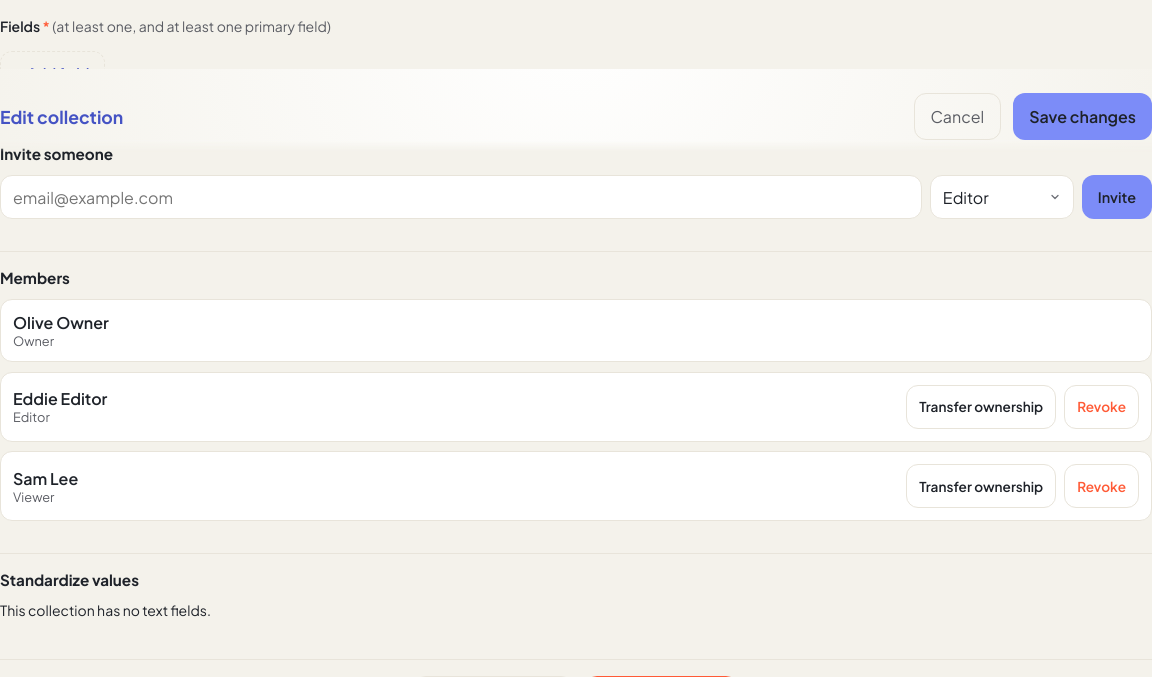
Test: Admin ownership transfer › shows an error when the transfer fails
(page scrolled)
What coordinates should you click on to do the following:
click the button "Transfer ownership" in the row of "Eddie Editor"
I would click on:
 (981, 407)
Its box is top-left (906, 385), bottom-right (1056, 429).
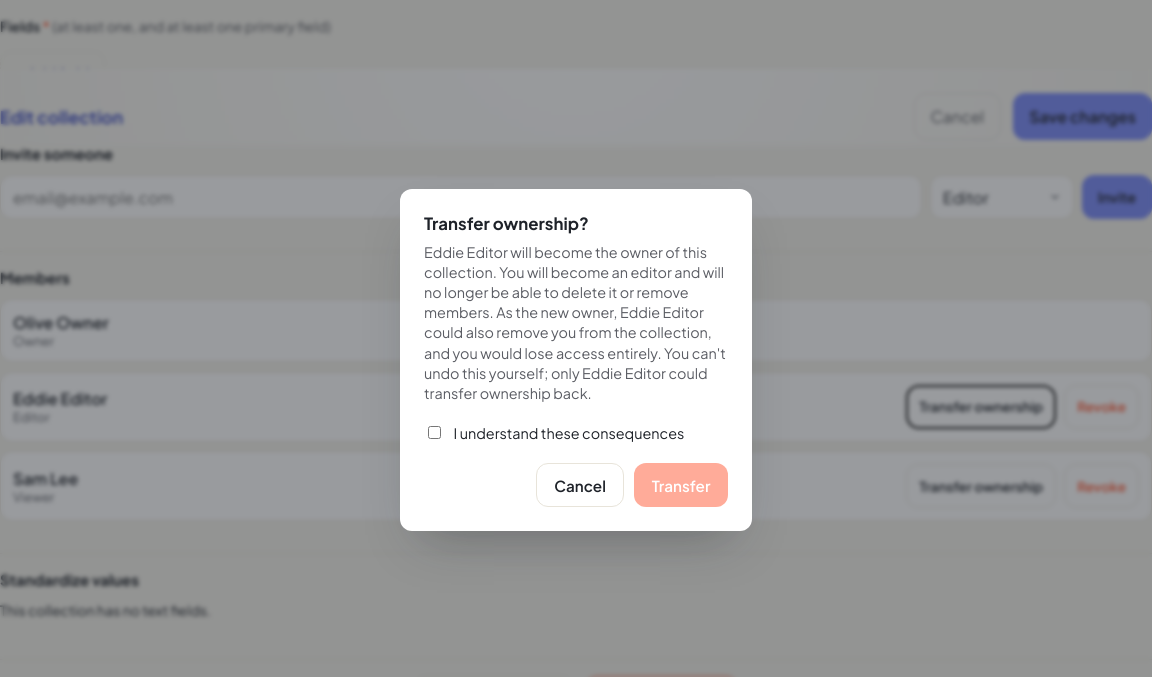
What coordinates should you click on to do the following:
click the checkbox labelled "I understand these consequences"
I would click on:
 (434, 433)
Its box is top-left (428, 426), bottom-right (441, 439).
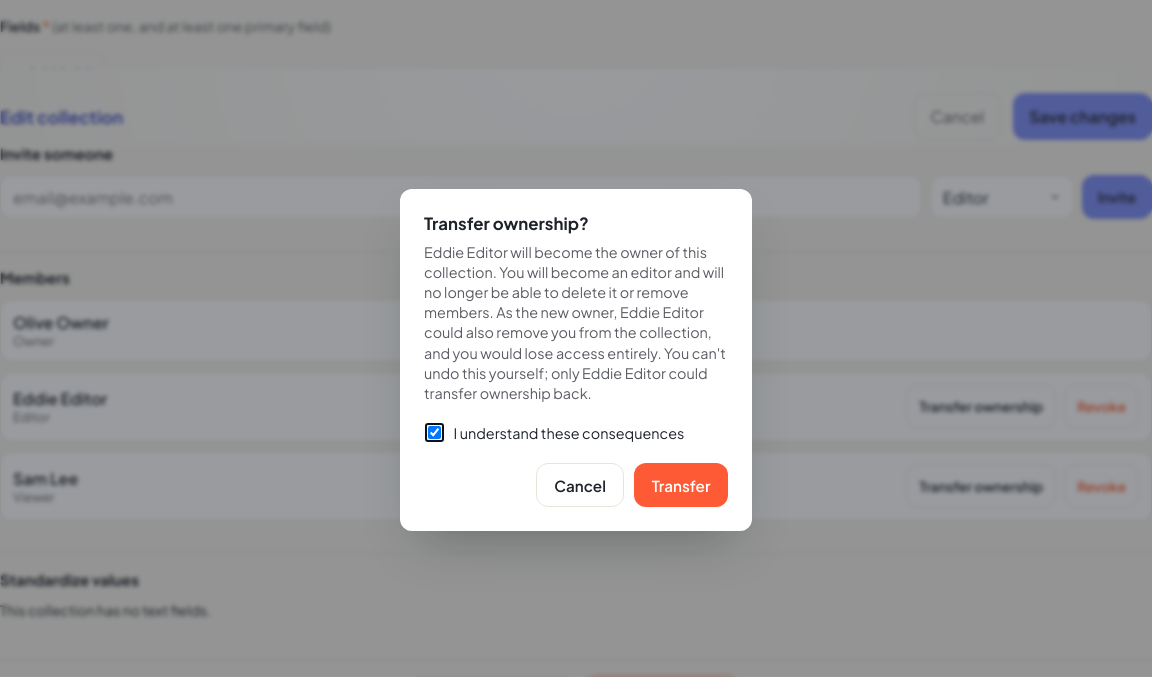
What coordinates should you click on to do the following:
click the button "Transfer"
I would click on:
 (681, 485)
Its box is top-left (634, 463), bottom-right (728, 507).
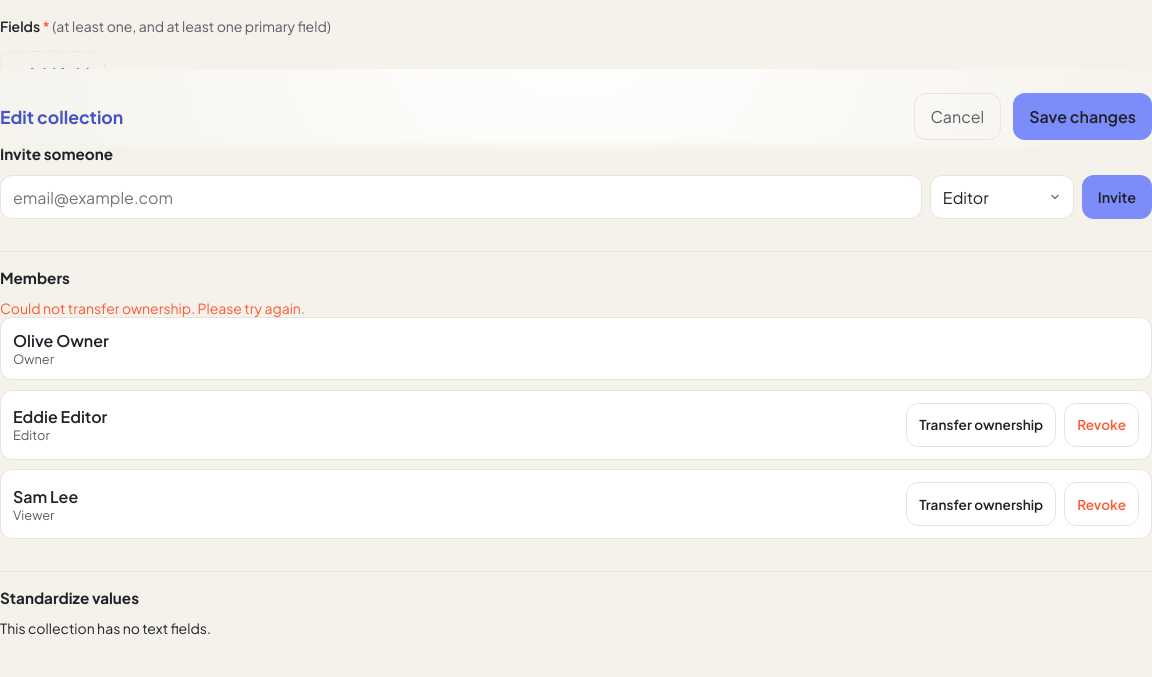
expect the text "Could not transfer ownership. Please try again." is shown: met, box top-left (0, 299), bottom-right (305, 317)
